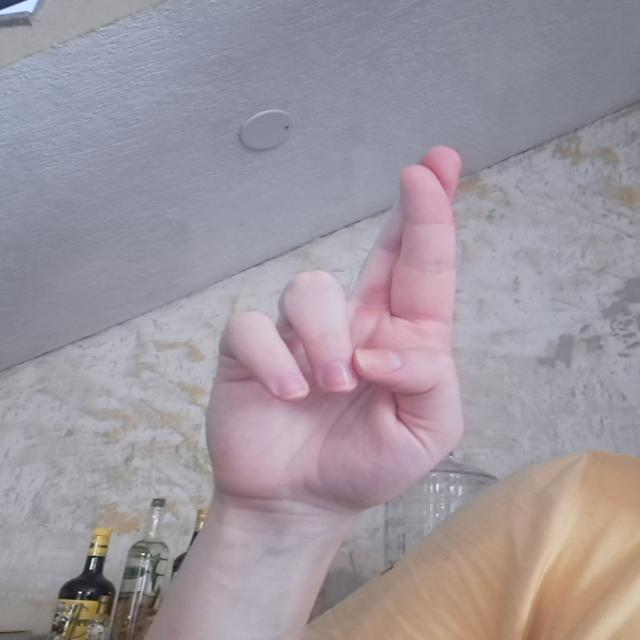R: (188, 143, 476, 522)
